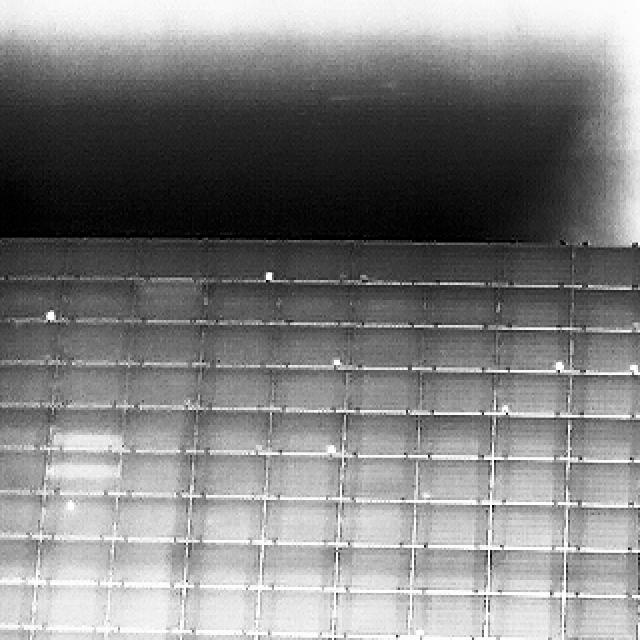Hotspots: (494, 400, 514, 416), (626, 355, 640, 375), (262, 266, 276, 284), (48, 304, 64, 319), (552, 356, 565, 374), (66, 495, 78, 512), (325, 440, 337, 457), (414, 625, 426, 640)
PV-modules: (268, 242, 361, 286), (51, 320, 133, 368), (332, 590, 410, 640), (57, 278, 139, 324), (190, 409, 270, 456), (412, 548, 490, 596), (335, 499, 413, 547), (258, 590, 336, 638), (489, 459, 565, 508), (275, 283, 361, 326), (415, 500, 492, 548), (338, 458, 415, 506), (48, 406, 125, 454), (422, 244, 504, 289), (344, 327, 424, 373), (491, 548, 566, 597), (184, 496, 262, 543), (262, 543, 340, 590), (184, 588, 260, 636), (261, 497, 337, 545), (34, 584, 110, 632), (111, 539, 187, 587), (496, 368, 570, 417), (334, 547, 411, 594), (342, 365, 419, 412), (105, 588, 181, 635), (265, 453, 341, 500), (423, 328, 499, 375), (566, 460, 640, 508), (187, 456, 264, 502), (410, 595, 488, 640), (185, 542, 261, 588), (422, 368, 498, 414), (123, 404, 194, 453), (565, 548, 639, 595), (568, 370, 640, 418), (362, 241, 434, 289), (117, 454, 190, 501), (488, 595, 564, 640), (44, 454, 120, 499), (344, 411, 419, 456), (489, 504, 564, 549), (116, 494, 189, 540), (199, 363, 275, 407), (564, 508, 640, 552), (202, 325, 278, 369), (272, 365, 346, 410), (42, 493, 116, 538), (52, 363, 131, 405), (42, 538, 114, 584), (568, 282, 640, 328), (418, 460, 493, 504), (137, 277, 207, 324), (493, 416, 569, 459), (504, 244, 575, 290), (420, 414, 494, 458), (424, 282, 498, 326), (495, 284, 569, 328), (0, 540, 37, 628), (568, 415, 640, 460), (496, 330, 569, 374), (272, 412, 345, 456), (63, 240, 141, 281), (566, 597, 640, 640), (136, 322, 204, 368), (204, 282, 278, 324), (137, 240, 210, 282), (276, 325, 345, 369), (202, 240, 271, 284), (568, 333, 640, 375), (130, 363, 200, 405), (570, 248, 640, 290), (354, 284, 424, 324), (0, 240, 66, 281), (0, 318, 54, 368), (0, 275, 56, 320), (0, 405, 49, 452), (0, 362, 52, 404), (0, 447, 44, 495), (0, 493, 42, 537), (0, 537, 38, 585), (0, 582, 33, 630), (24, 627, 104, 640), (102, 630, 176, 640), (330, 632, 410, 640), (176, 632, 254, 640), (252, 632, 330, 640), (0, 625, 28, 640), (406, 635, 482, 640), (486, 637, 564, 640), (638, 550, 640, 598)
